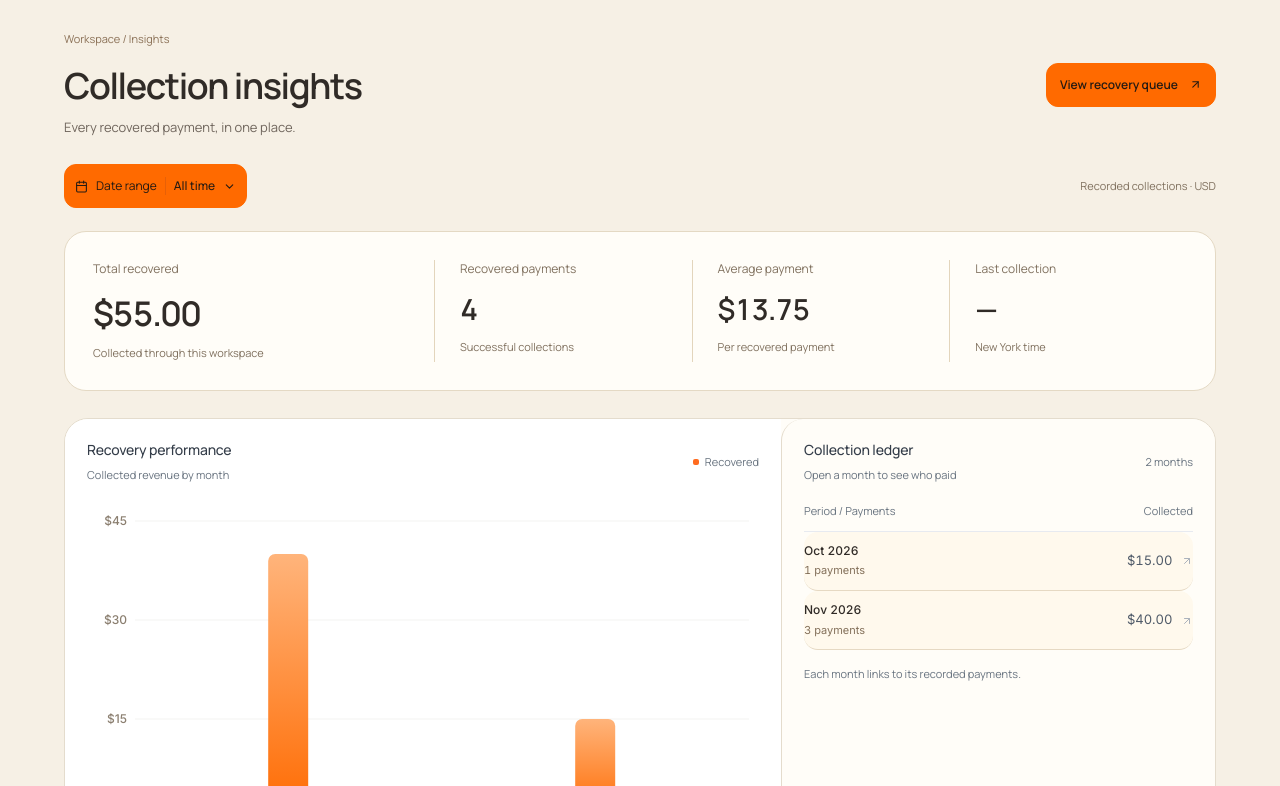
Scenario: clicking a month reveals people, amounts, dates, cards and original Stripe references
Click the button "Nov 2026 3 payments $40.00" at (833, 609), box [804, 591, 1193, 650]
(page scrolled)
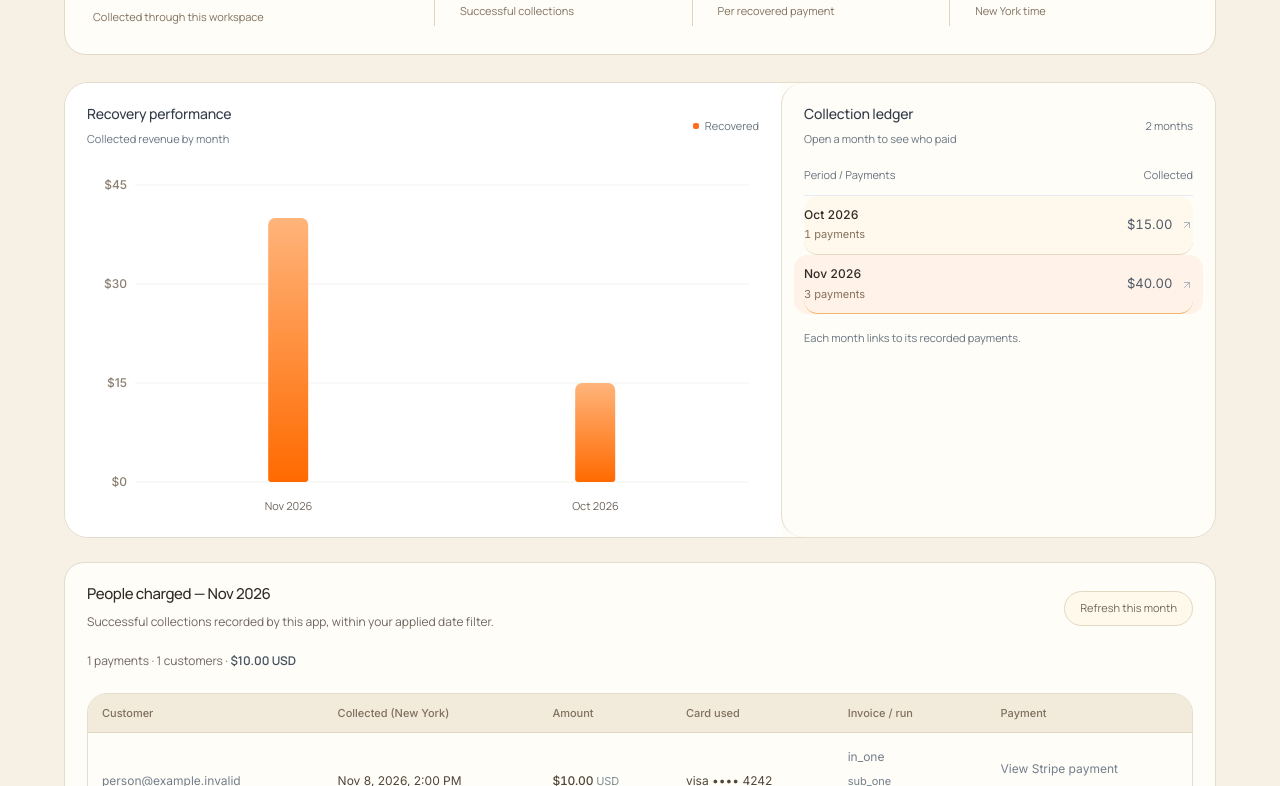
Expected: the text "People charged — Nov 2026" is shown, [87, 583, 270, 604]
Expected: the text "$10.00" is shown, [230, 652, 270, 669]
Expected: the link to "https://dashboard.stripe.com/invoices/in_one" is shown, [848, 749, 884, 764]
